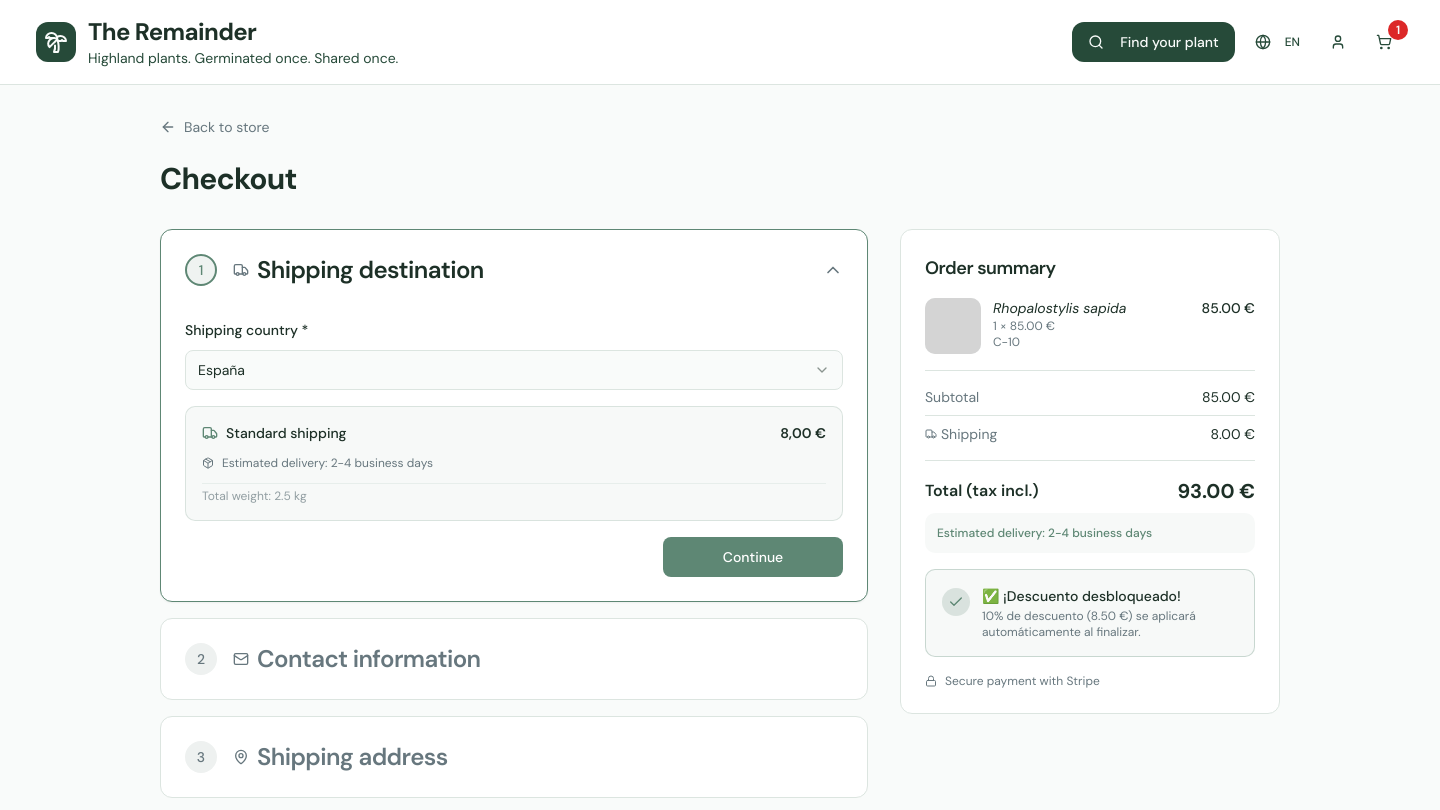
Test: Checkout — form validation › advances from contact step with valid email
# Step 1 → Step 2
Click the button "Continue": (753, 557) left=663, top=537, right=843, bottom=577
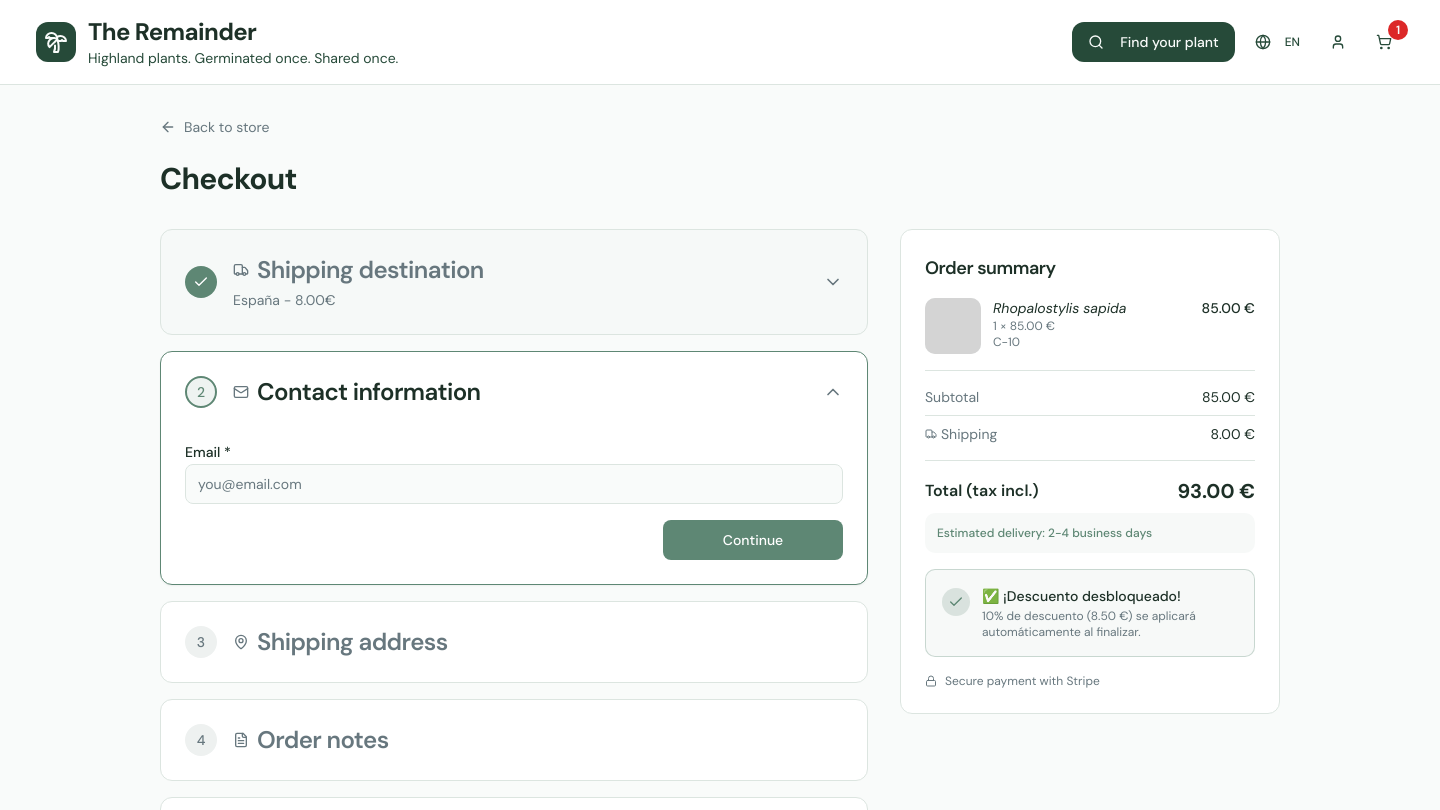
Result: the field with id "email" is shown
# Fill email
In the field with id "email": (514, 484) left=185, top=464, right=843, bottom=504, type "test@example.com"
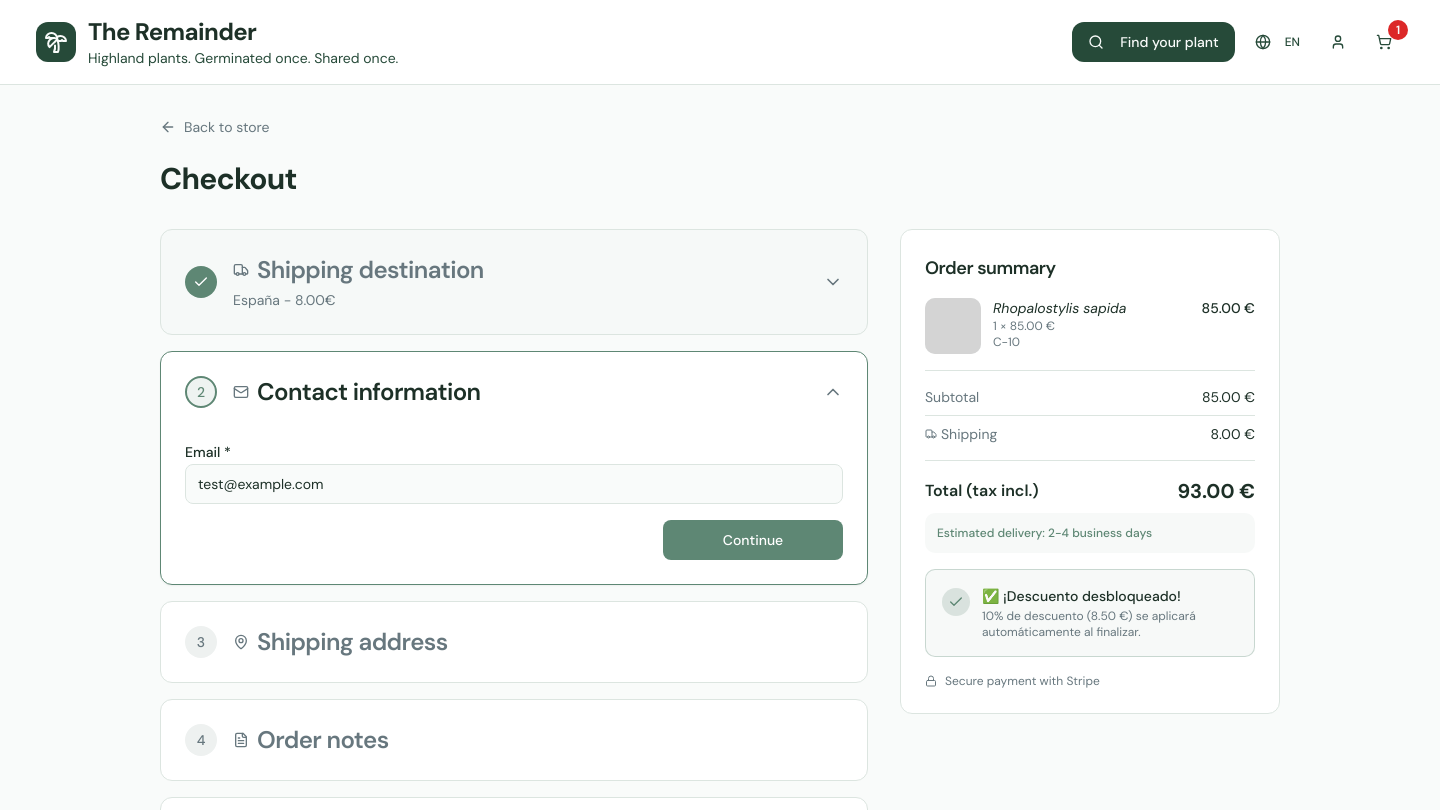
Click the button "Continue": (753, 540) left=663, top=520, right=843, bottom=560
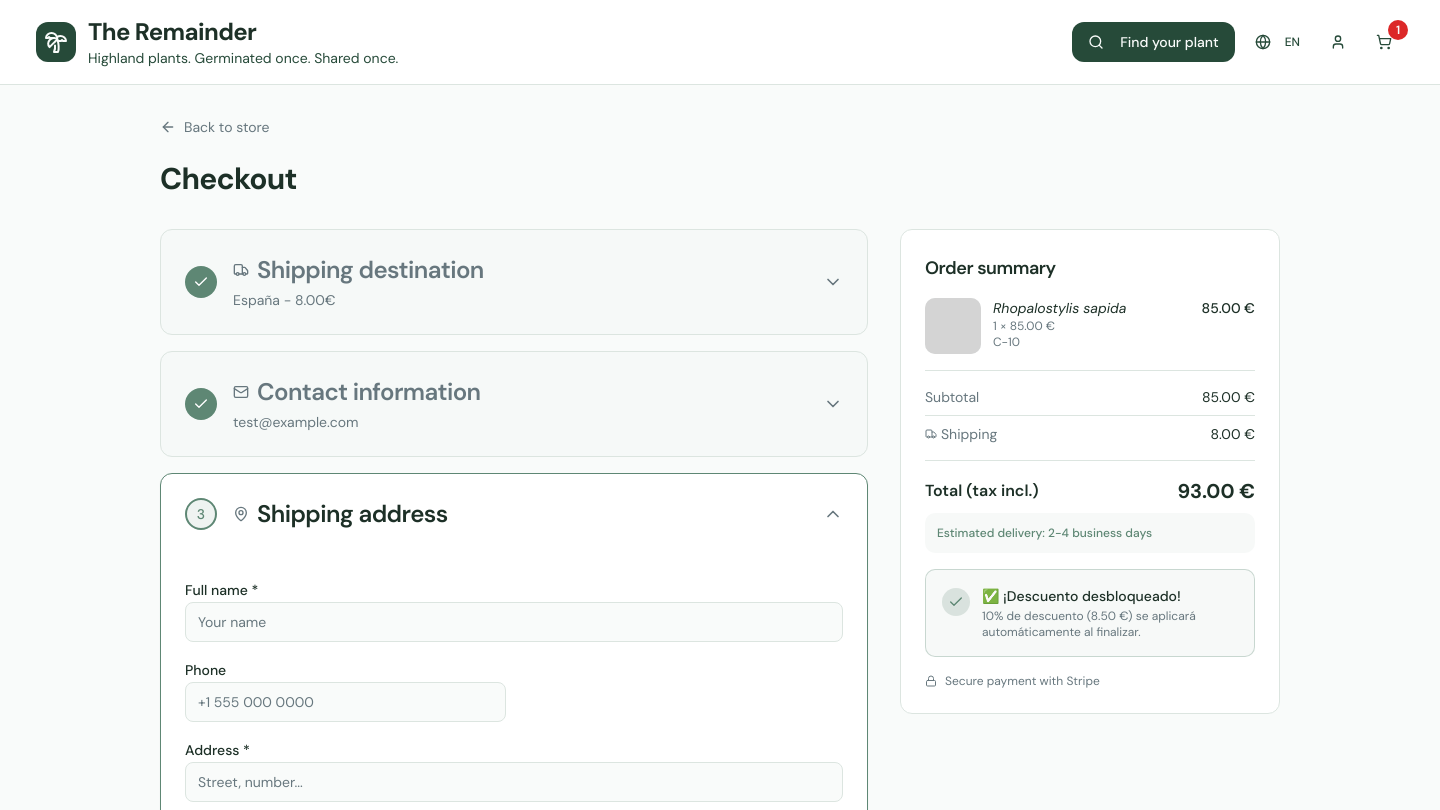
Result: the field with id "fullName" is shown at left=185, top=602, right=843, bottom=642
